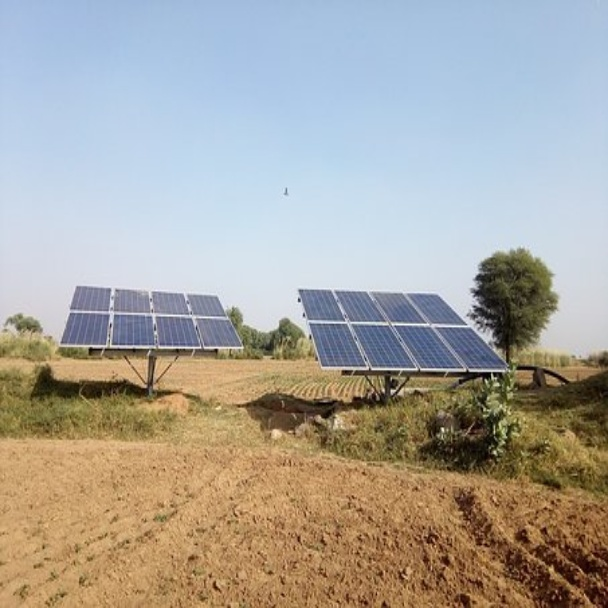solarpanels: (297, 282, 513, 380), (70, 282, 246, 361)
